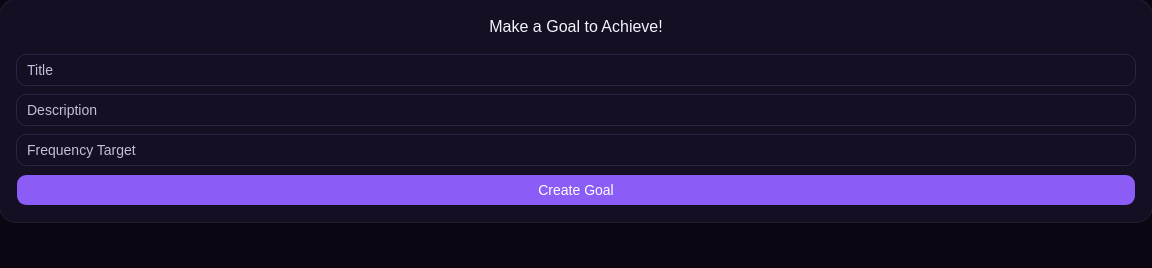
Test case: GoalForm › shows an error when the frequency target is empty
Step 1. Click the button "Create Goal" → click(576, 190), box [16,174,1136,206]
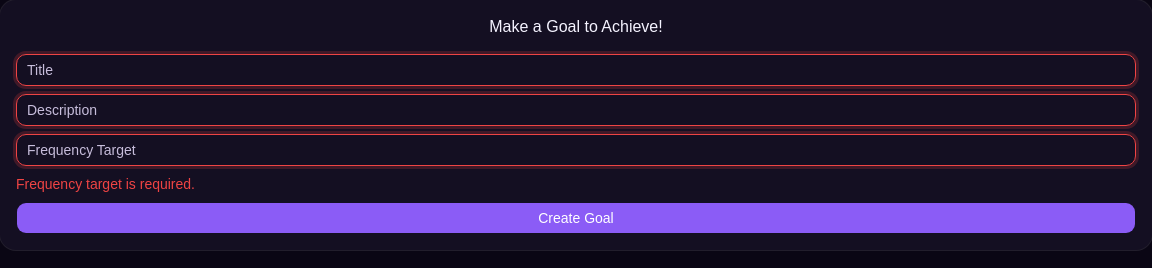
Check: the text "Frequency target is required." is shown, box [16,176,195,192]
